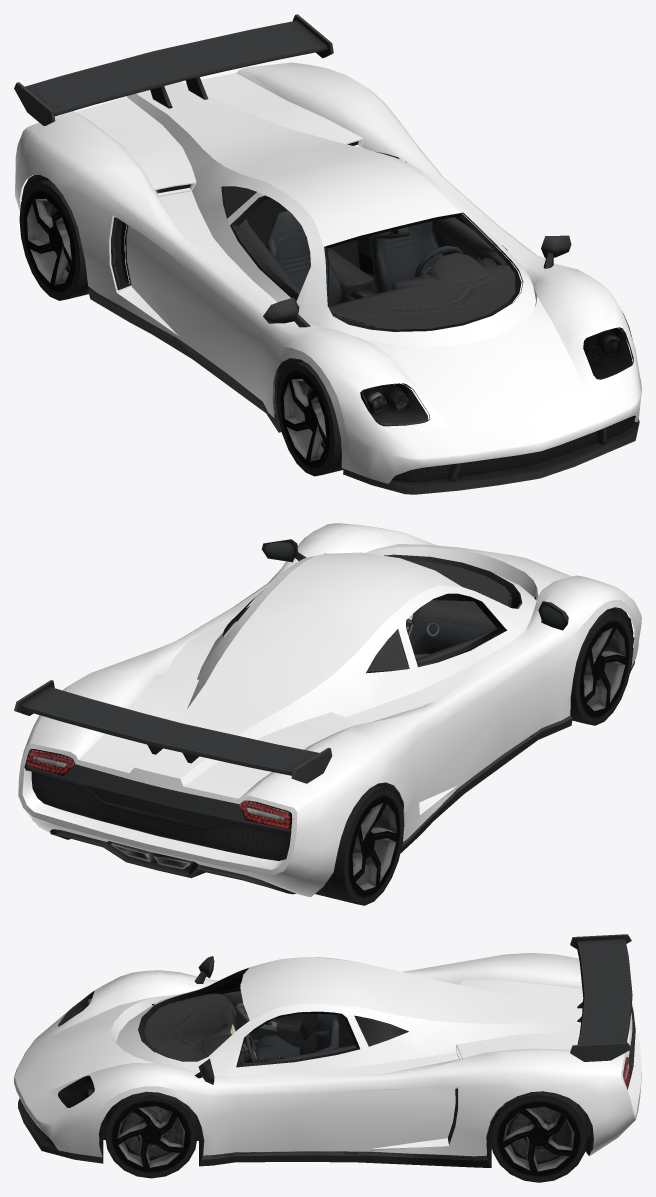
Rendered from car_gt22_lo.glb.
3 renders of one model, top to bottom at view 1: azimuth 30°, elevation 25°; view 2: azimuth 150°, elevation 25°; view 3: azimuth 270°, elevation 25°, orthographic. The views are drawn at different scales.
Parts seen in each view (by area): view 1: node_id36_6, node_id70_8, node_id84_0, node_id48_1; view 2: node_id36_6, node_id70_8, node_id48_1, node_id84_0, node_id42_3; view 3: node_id36_6, node_id70_8, node_id48_1, node_id84_0.
Boxes of the visible parts, x1,y1,x2,y2 form: node_id36_6: [15, 62, 641, 483]; node_id70_8: [14, 14, 639, 494]; node_id84_0: [233, 210, 515, 361]; node_id48_1: [19, 179, 343, 476]; node_id36_6: [18, 523, 641, 897]; node_id70_8: [14, 539, 634, 894]; node_id48_1: [32, 611, 632, 905]; node_id84_0: [366, 560, 511, 673]; node_id42_3: [25, 749, 290, 828]; node_id36_6: [14, 953, 641, 1157]; node_id70_8: [18, 934, 635, 1167]; node_id48_1: [105, 1092, 587, 1182]; node_id84_0: [144, 991, 408, 1064].
Size of what is drawn, in the model's own units: 0.5162 by 0.2785 by 1.09.
Materials: 5 (4 with a texture image).
